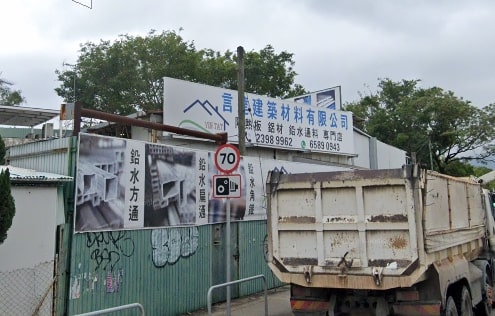Speed Limit: (213, 146, 241, 172)
